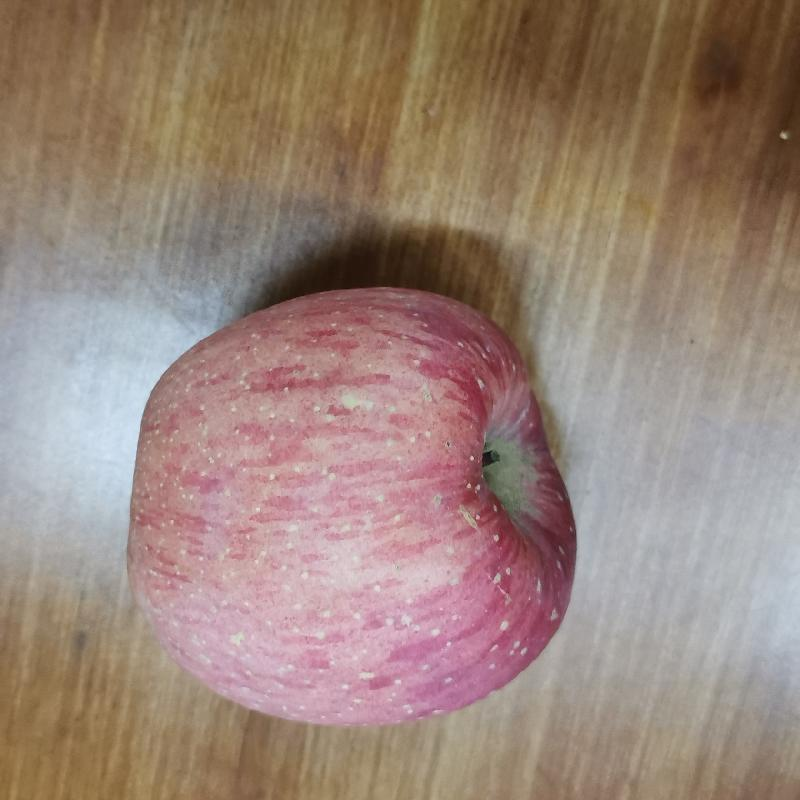apples: (119, 281, 581, 736)
